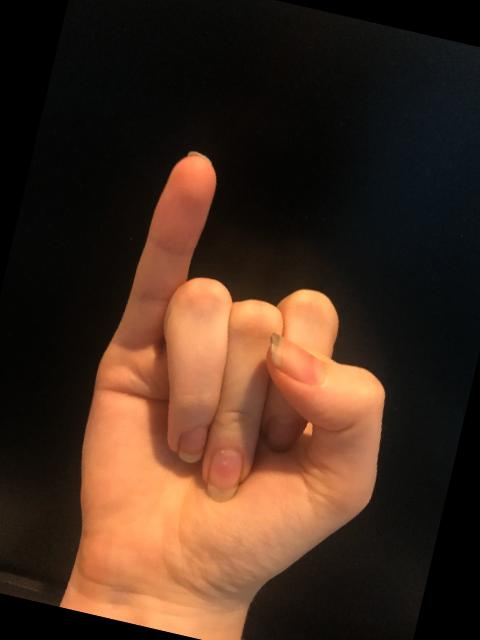I: (41, 133, 446, 640)
